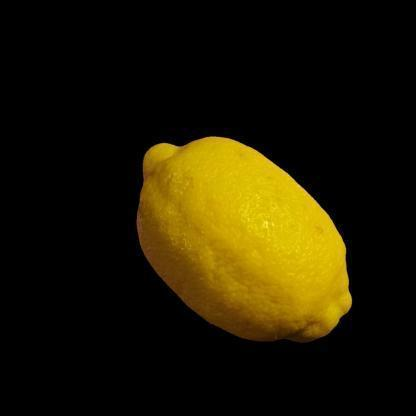lemon: (135, 135, 354, 342)
